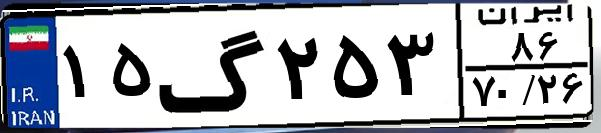0: (495, 70, 520, 125)
1: (57, 26, 110, 100)
2: (270, 28, 330, 110), (535, 70, 560, 125)
3: (385, 28, 445, 110)
5: (330, 28, 385, 110), (110, 28, 156, 98)
6: (560, 70, 590, 125), (537, 27, 568, 80)
7: (470, 70, 495, 125)
8: (508, 27, 537, 80)
گ: (156, 12, 270, 120)
